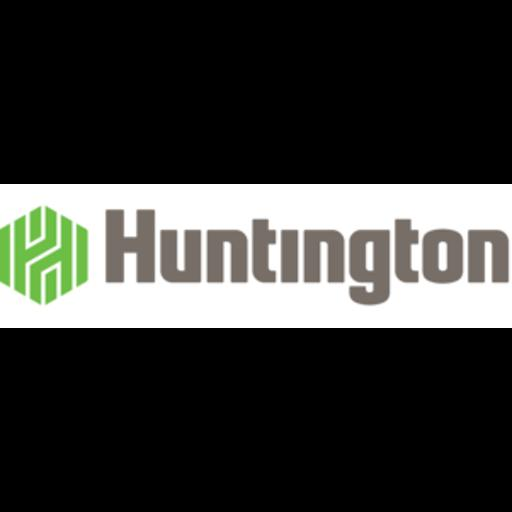Huntington Bank: (0, 184, 512, 328)
